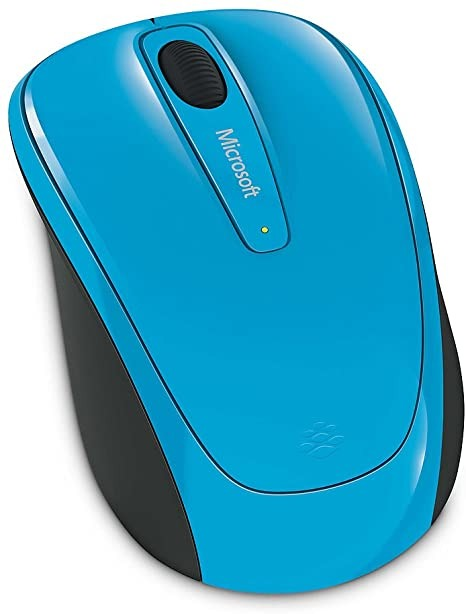mouse: (8, 6, 459, 593)
